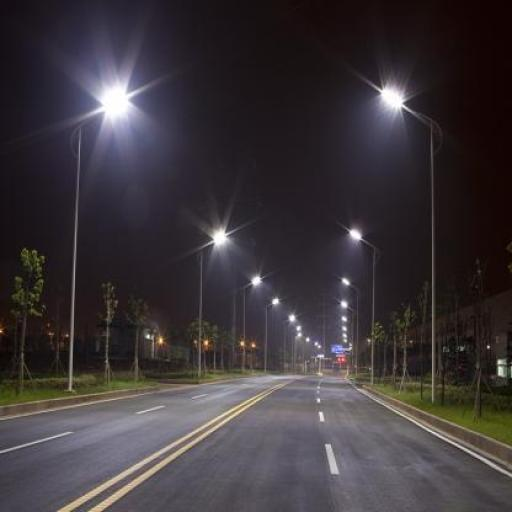street light: (380, 90, 438, 404), (67, 95, 126, 394), (198, 234, 228, 379), (352, 226, 377, 384), (341, 278, 361, 378), (242, 277, 261, 374), (264, 298, 278, 372), (341, 300, 355, 374), (342, 315, 354, 374), (283, 314, 295, 371), (293, 325, 301, 371)
